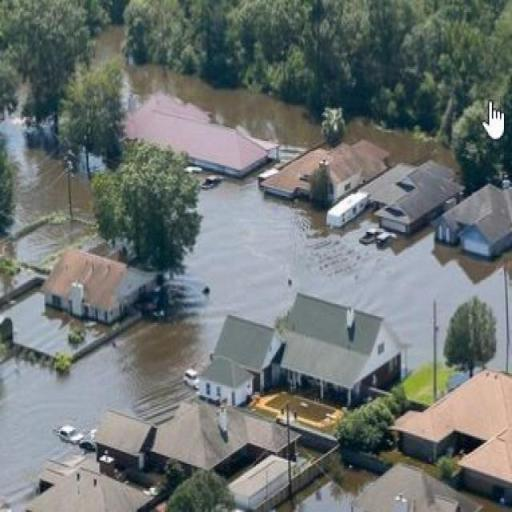flood: (0, 174, 512, 500), (127, 65, 321, 145), (0, 121, 66, 231), (2, 290, 112, 356), (348, 121, 456, 165), (278, 471, 370, 512), (15, 224, 67, 266), (71, 177, 91, 220), (484, 507, 512, 512)
house: (388, 359, 512, 500), (280, 292, 407, 402), (127, 92, 282, 182), (261, 139, 391, 211), (2, 457, 170, 512), (194, 310, 288, 408), (44, 245, 154, 326), (362, 159, 457, 234), (154, 402, 245, 474), (437, 187, 512, 260), (94, 408, 156, 470)
